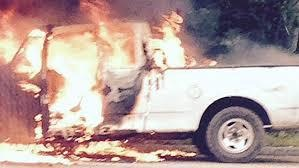fire: (22, 27, 110, 130), (148, 14, 192, 69)
